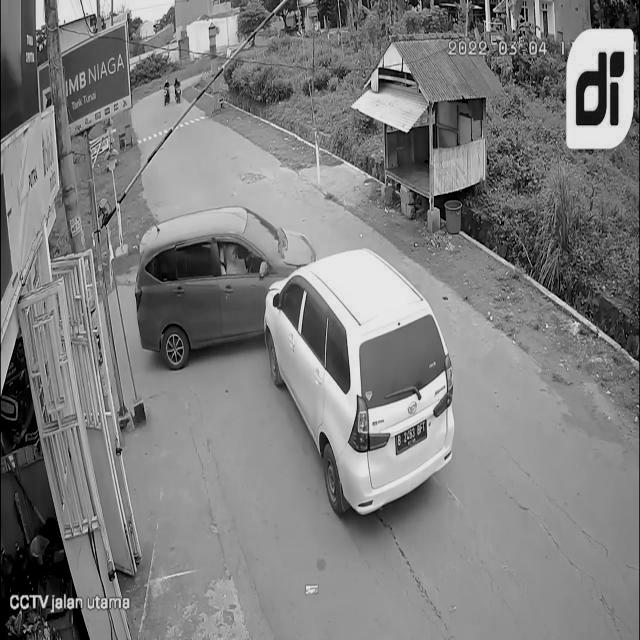accident: (134, 205, 458, 521)
